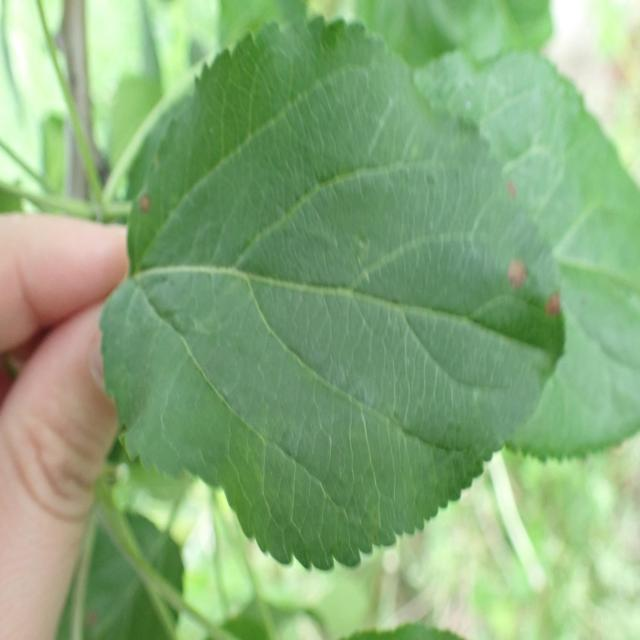Black Rot: (542, 272, 569, 348), (490, 252, 534, 298), (504, 153, 525, 215), (133, 175, 162, 219)
